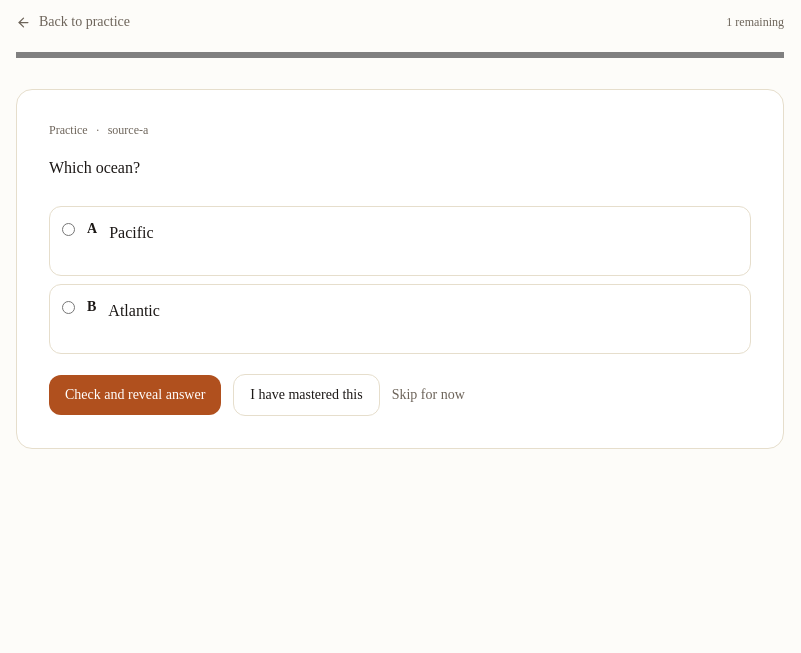
Scenario: keeps forgotten questions in the round and removes only mastered questions
The image size is (801, 653).
Click the radio button labelled "A Pacific".
click(68, 230)  # box x1=62 y1=223 x2=75 y2=236
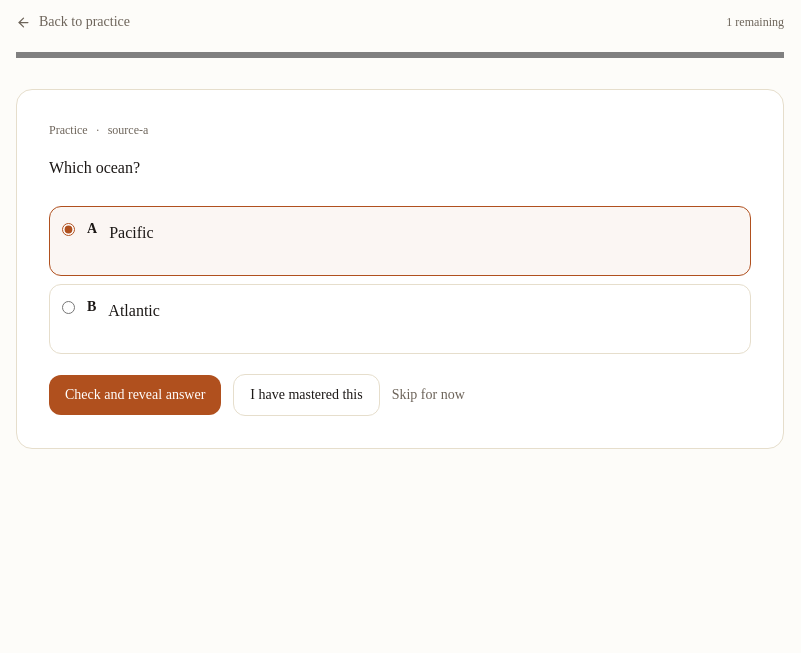
Click the button "Check and reveal answer".
click(135, 395)  # box x1=49 y1=375 x2=221 y2=415
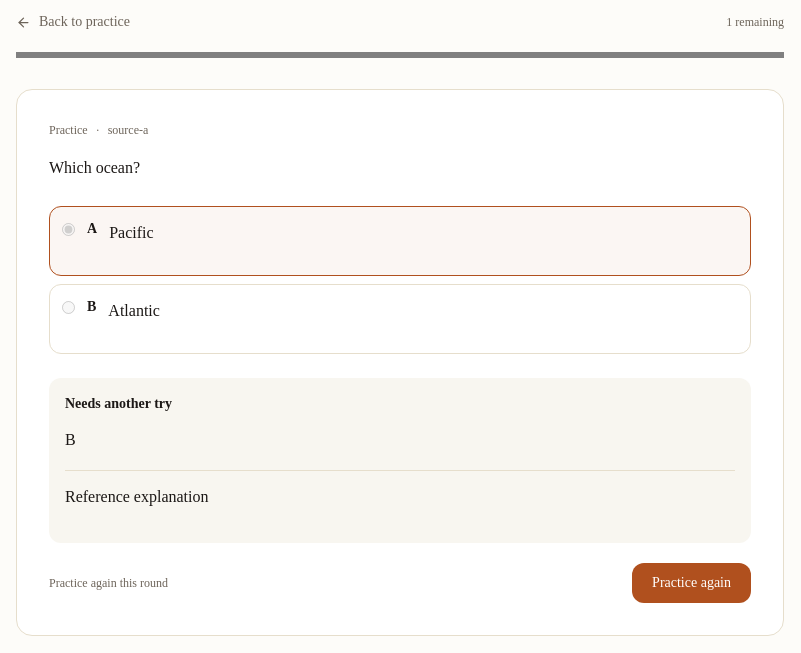
Click the button "Practice again".
click(692, 583)  # box x1=632 y1=563 x2=751 y2=603
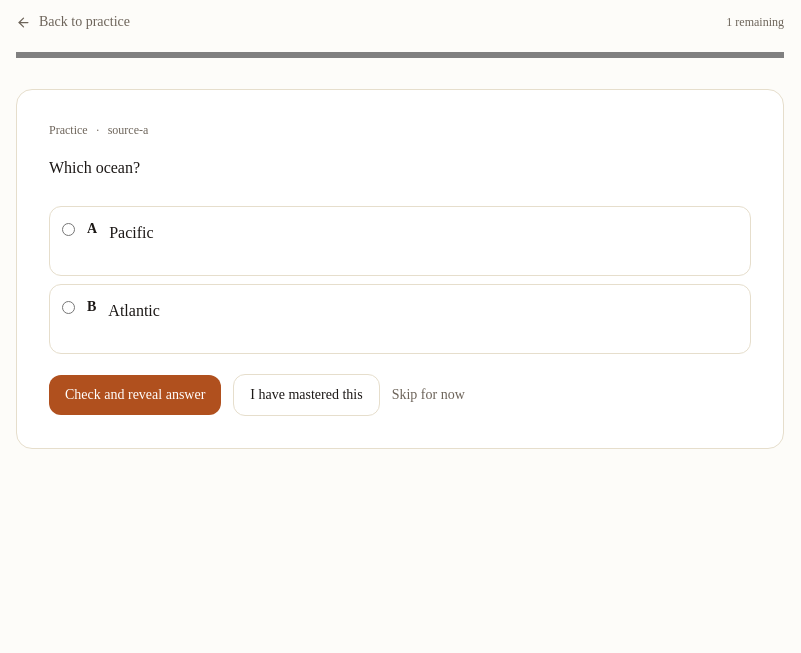
Expected: the text "1 remaining" is shown, x1=726 y1=14 x2=784 y2=30
Expected: the text "Practice complete" is not shown
Click the button "I have mastered this".
click(306, 395)  # box x1=233 y1=374 x2=380 y2=416
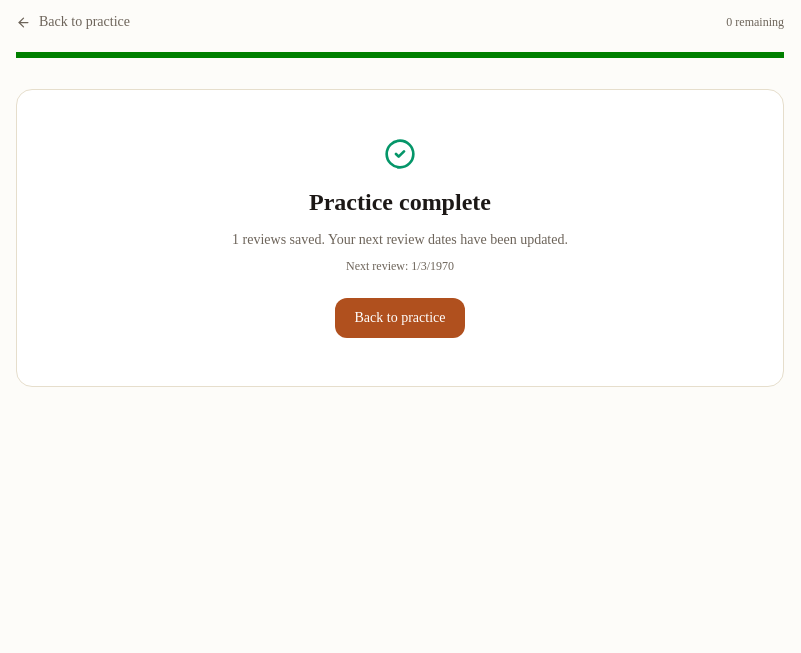
Now the heading "Practice complete" is shown, box x1=309 y1=189 x2=491 y2=215
Now the text "0 remaining" is shown, box x1=726 y1=14 x2=784 y2=30
